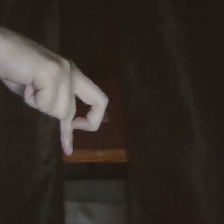P: (1, 19, 118, 168)
